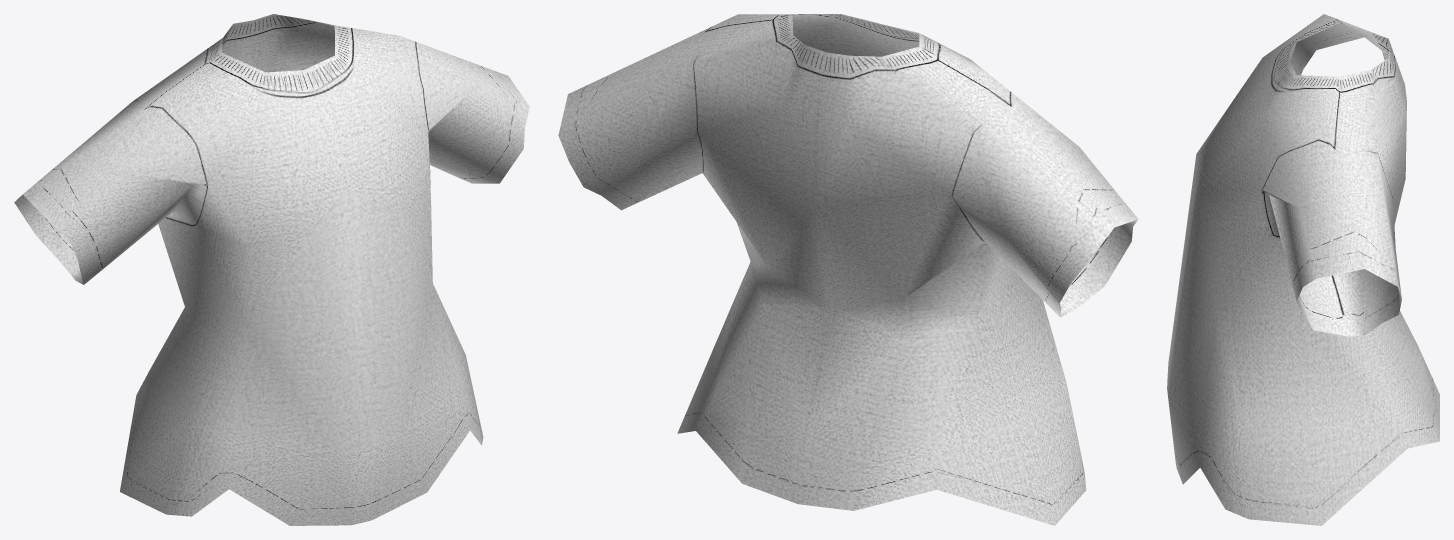
The model's file is BasicShirt.glb.
3 views of the same model, side by side, from view 1: azimuth 30°, elevation 25°; view 2: azimuth 150°, elevation 25°; view 3: azimuth 270°, elevation 25° (orthographic). The views are drawn at different scales.
Parts seen in each view (by area): view 1: BasicShirt; view 2: BasicShirt; view 3: BasicShirt.
Boxes of the visible parts, bbox=[...] form: BasicShirt: bbox=[14, 14, 529, 525]; BasicShirt: bbox=[558, 14, 1138, 525]; BasicShirt: bbox=[1167, 14, 1439, 525].
Bounding box in the file's own units: 9.15 × 7.64 × 4.56.
Materials: 1 (1 with a texture image).
